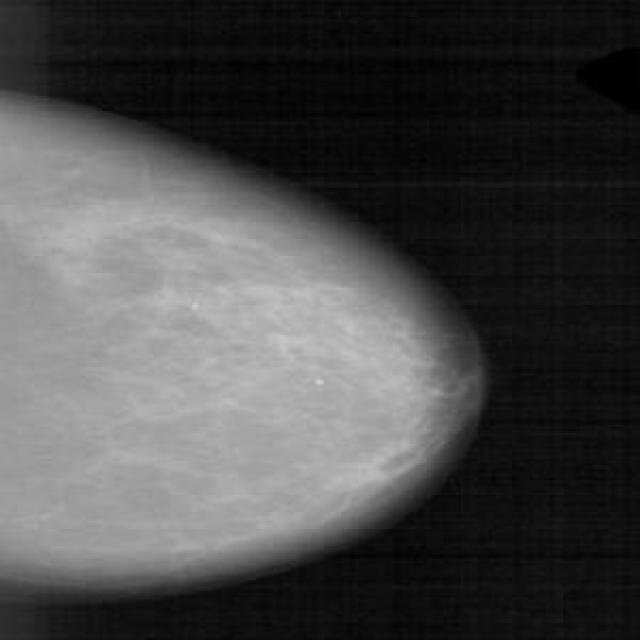tumor: (294, 282, 431, 504)
